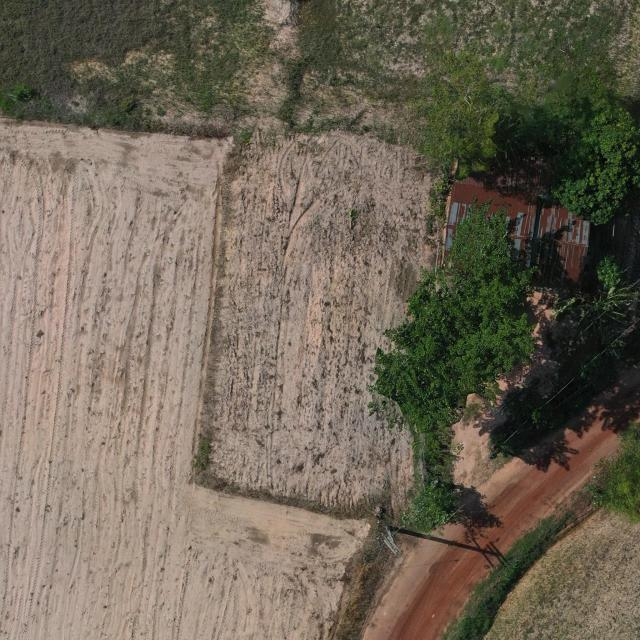Tree: (371, 194, 541, 436), (550, 103, 640, 226), (416, 78, 511, 183), (401, 484, 462, 536)
